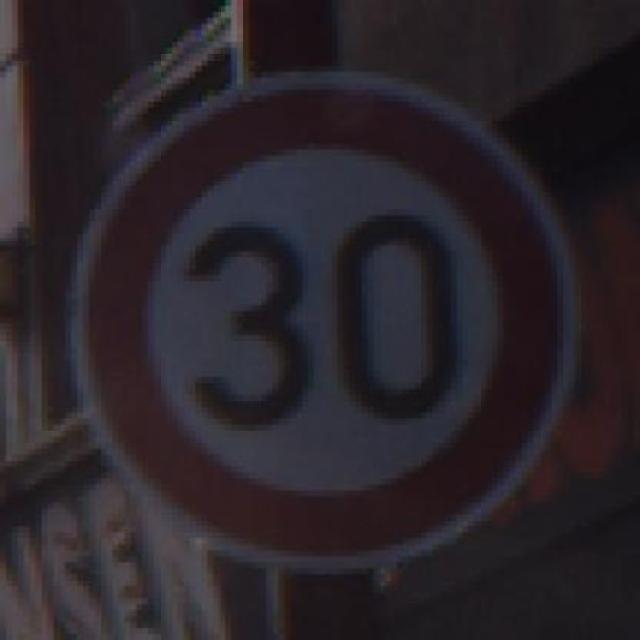Speed Limit 30 KMPh: (29, 54, 598, 580)
